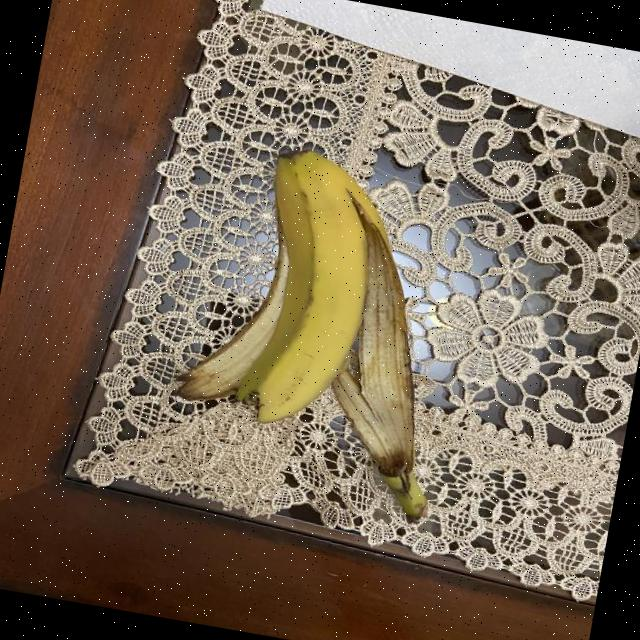banana-peel: (162, 132, 484, 521), (290, 181, 479, 519), (228, 144, 390, 438)
